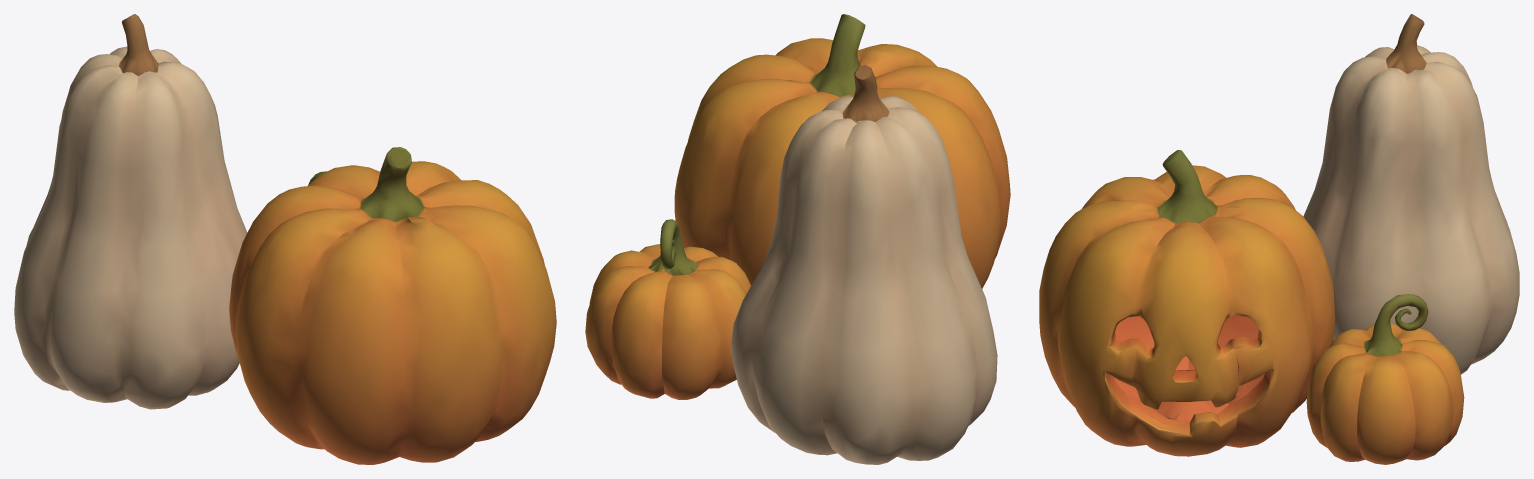
The model's file is S8_PumpkinPile_LOD1.fbx.
3 views of the same model, side by side, from view 1: azimuth 30°, elevation 25°; view 2: azimuth 150°, elevation 25°; view 3: azimuth 270°, elevation 25° (orthographic). The views are drawn at different scales.
Visible parts, largest first — view 1: S8_PumpkinPile_LOD1; view 2: S8_PumpkinPile_LOD1; view 3: S8_PumpkinPile_LOD1.
Boxes of the visible parts, <box> form: S8_PumpkinPile_LOD1: <box>14,14,556,464</box>; S8_PumpkinPile_LOD1: <box>585,14,1010,464</box>; S8_PumpkinPile_LOD1: <box>1039,14,1519,464</box>.
Size of the model in its own units: 0.6149 by 0.5506 by 0.6989.
Materials: 1 (1 with a texture image).
